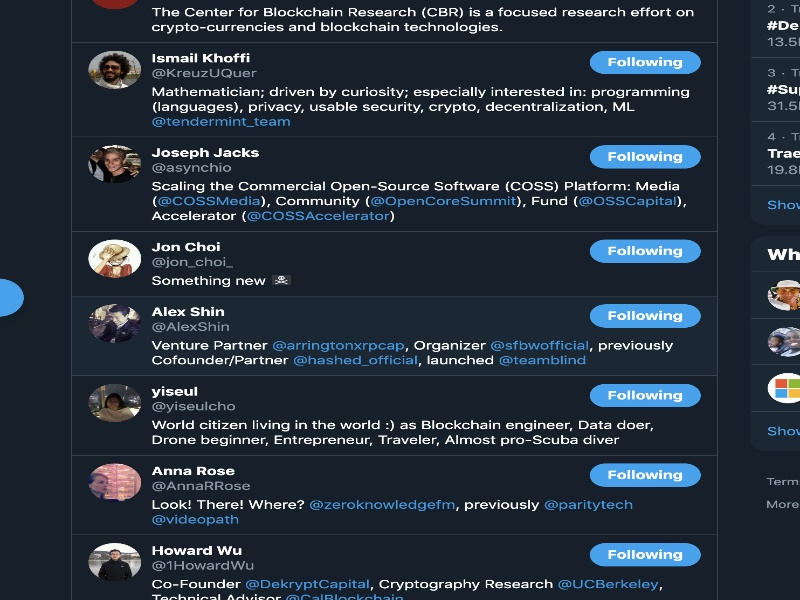follbut: (587, 541, 704, 570), (586, 302, 702, 331), (588, 381, 703, 409), (587, 49, 704, 76), (586, 237, 703, 264), (589, 461, 702, 488), (587, 145, 703, 170)
